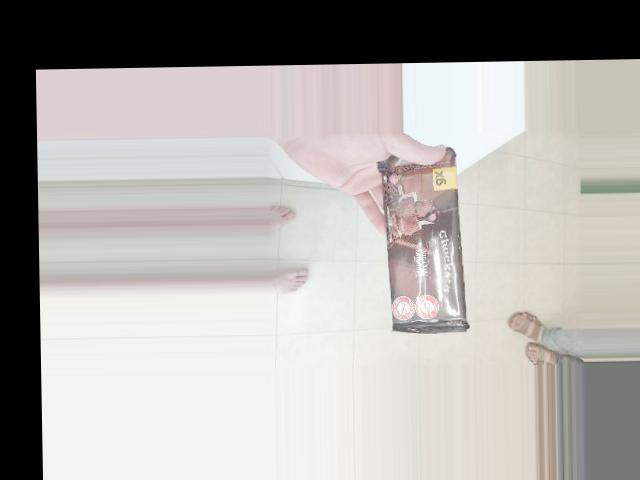chocolate: (366, 146, 474, 339)
